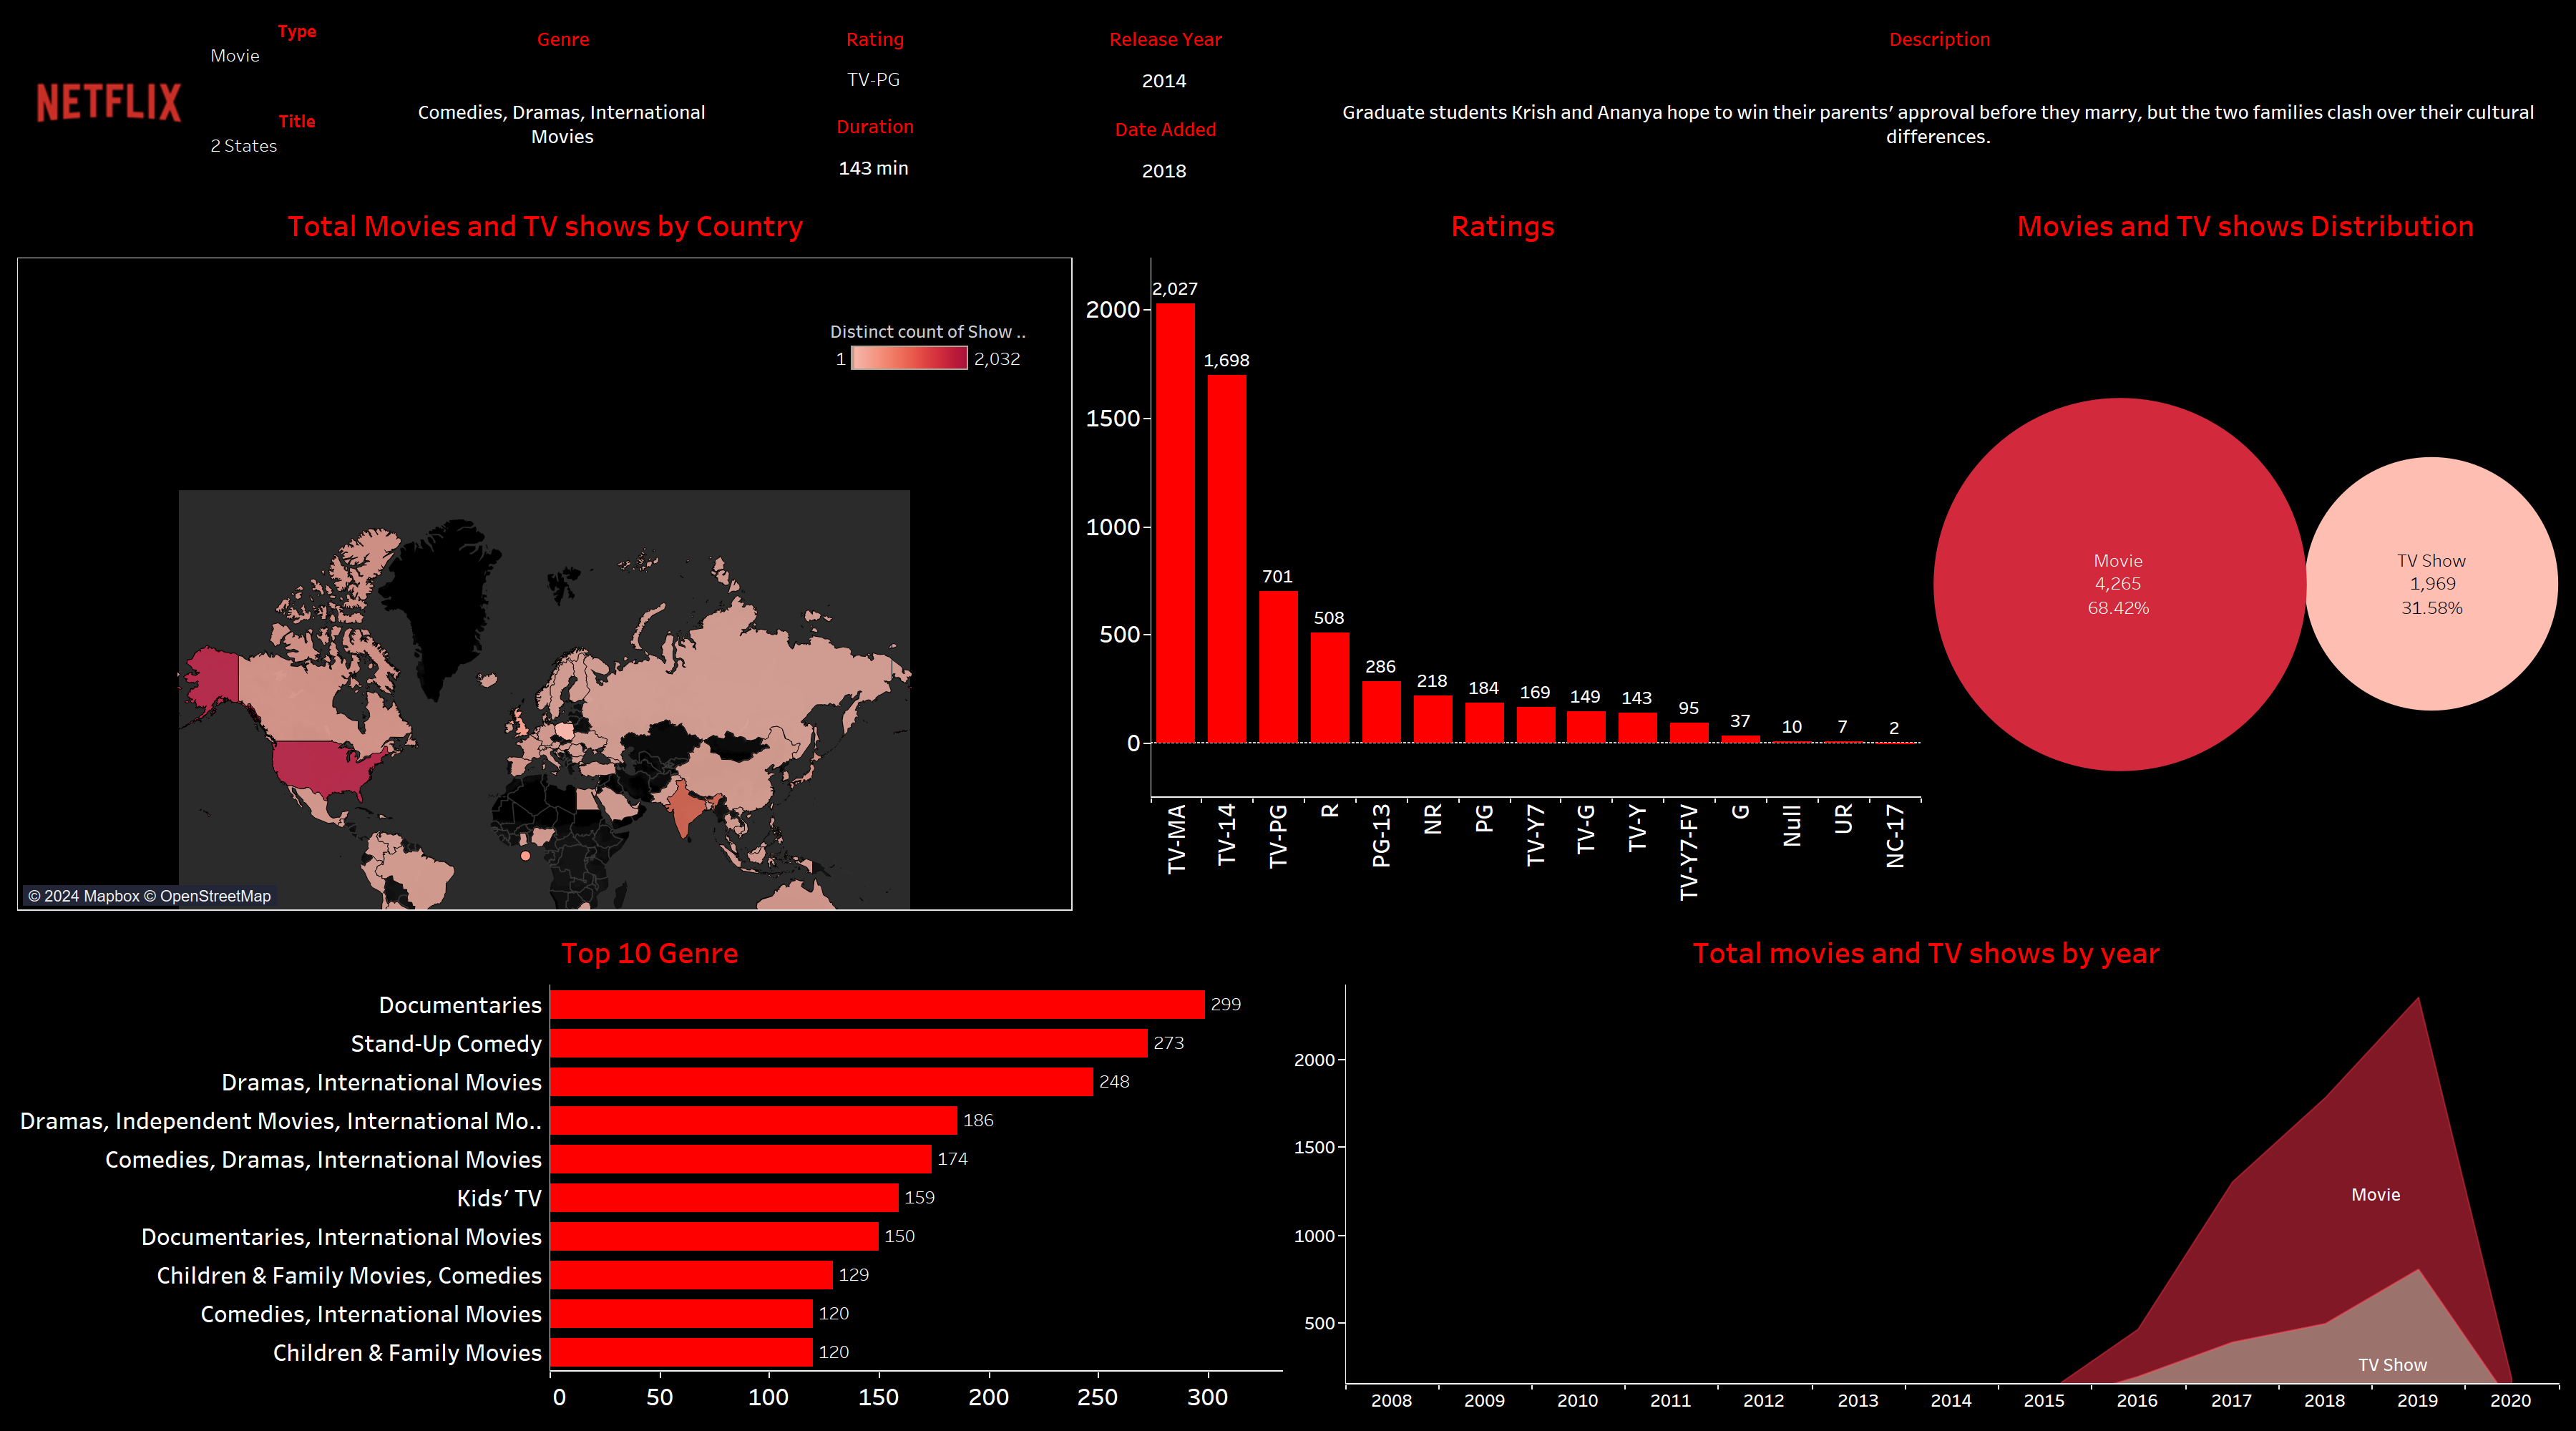

Layout of this report page (visuals, bound fields, positions):
{"tool":"tableau","page":{"name":"Netflix","canvas":[1800,1000],"ordinal":0},"visuals":[{"type":"image","param":"C:/Users/bhole/Downloads/NF.png","box":[8,8,133,125]},{"type":"filter","title":"Description","param":"[federated.02a0los1hfkw6g1b46ba81yk2paq].[none:type:nk]","box":[141,8,133,62.5]},{"type":"worksheet","title":"Genre","mark":"Automatic","box":[274,8,239,125]},{"type":"worksheet","title":"Rating","mark":"Automatic","box":[513,8,197,61]},{"type":"worksheet","title":"Release","mark":"Automatic","box":[710,8,209,62.5]},{"type":"worksheet","title":"Description","mark":"Automatic","box":[919,8,873,125]},{"type":"worksheet","title":"Duration","mark":"Automatic","box":[513,69,197,64]},{"type":"filter","title":"Description","param":"[federated.02a0los1hfkw6g1b46ba81yk2paq].[none:title:nk]","box":[141,70.5,133,62.5]},{"type":"worksheet","title":"Date Added","mark":"Automatic","box":[710,70.5,209,62.5]},{"type":"worksheet","title":"Total Movies and TV shows by country","mark":"Multipolygon","box":[8,133,746,508.2]},{"type":"worksheet","title":"Ratings","mark":"Automatic","rows":["show_id"],"cols":["rating"],"box":[754,133,592,508.2]},{"type":"worksheet","title":"Movies and TV shows distribution","mark":"Circle","box":[1346,133,446,508.2]},{"type":"legend","title":"Total Movies and TV shows by country","param":"[federated.02a0los1hfkw6g1b46ba81yk2paq].[ctd:show_id:qk]","box":[580,219,138,45]},{"type":"worksheet","title":"Top 10 Genre","mark":"Automatic","rows":["listed_in"],"cols":["show_id"],"box":[8,641.2,892,350.8]},{"type":"worksheet","title":"total movies and tv shows by years","mark":"Area","rows":["show_id"],"cols":["date_added"],"box":[900,641.2,892,350.8]}]}

Visuals, with their boxes in screenshot pixels (x1, y1, x2, y2), scaled from the page's 1800x1000 canvas onto the 2576x1431 screenshot:
image: (11, 11, 202, 190)
"Description" filter: (202, 11, 392, 101)
"Genre" worksheet: (392, 11, 734, 190)
"Rating" worksheet: (734, 11, 1016, 99)
"Release" worksheet: (1016, 11, 1315, 101)
"Description" worksheet: (1315, 11, 2565, 190)
"Duration" worksheet: (734, 99, 1016, 190)
"Description" filter: (202, 101, 392, 190)
"Date Added" worksheet: (1016, 101, 1315, 190)
"Total Movies and TV shows by country" worksheet (Multipolygon marks): (11, 190, 1079, 917)
"Ratings" worksheet: (1079, 190, 1926, 917)
"Movies and TV shows distribution" worksheet (Circle marks): (1926, 190, 2565, 917)
"Total Movies and TV shows by country" legend: (830, 313, 1028, 378)
"Top 10 Genre" worksheet: (11, 917, 1288, 1420)
"total movies and tv shows by years" worksheet (Area marks): (1288, 917, 2565, 1420)
